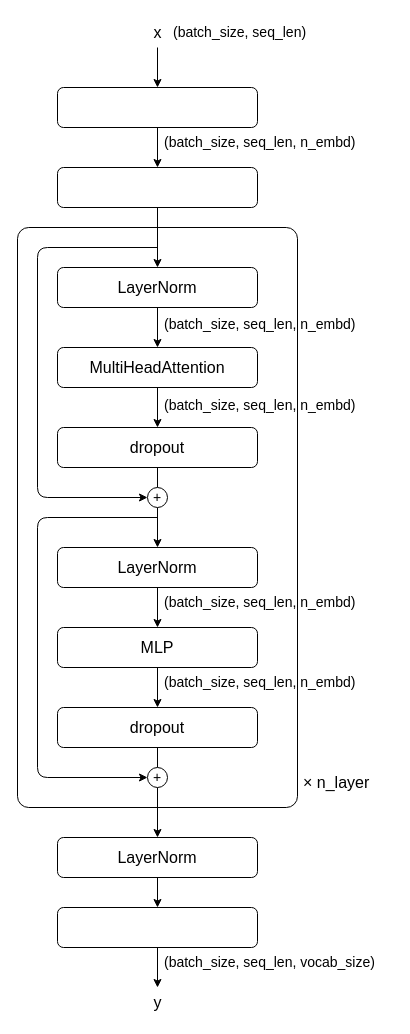
This 410x1034 diagram has some shape labels left out. Each missing label, with the centre of its shape:
Linear(线性层): the point at 157,927
Position Embedding: the point at 157,187
Word Token Embedding: the point at 157,107
